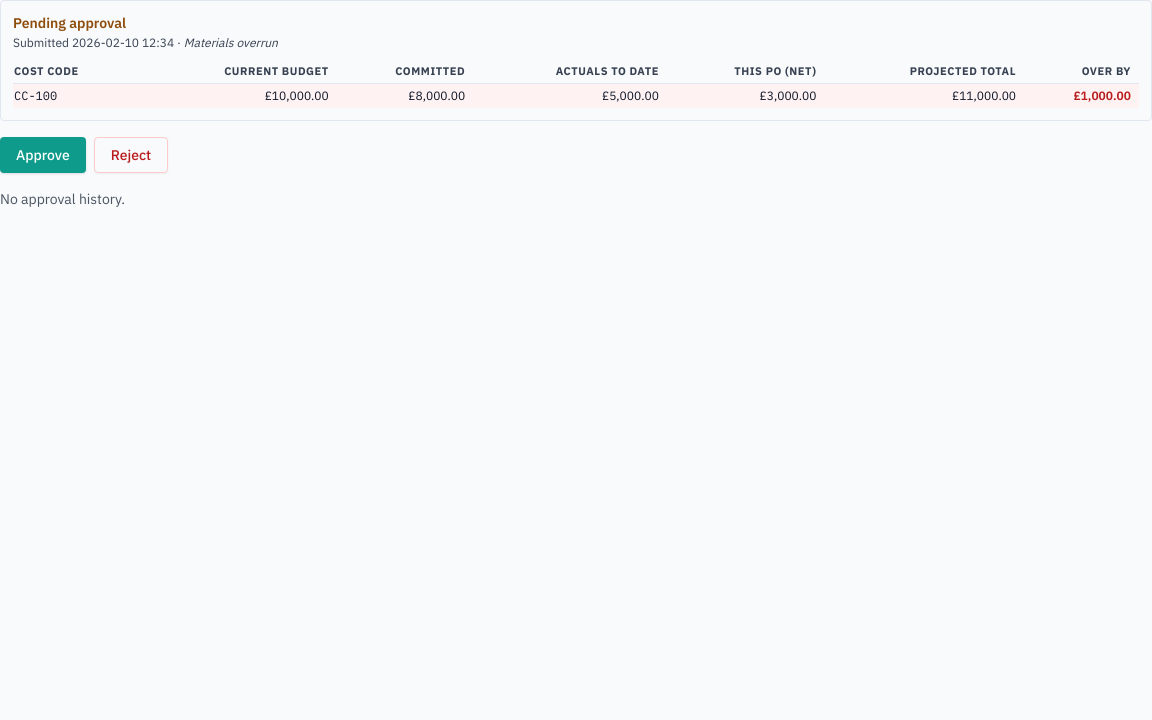
Test: <POApprovalPanel/> R7.3 › Approve calls approvePO with optional reason
Later steps or results of the test are not shown.
Click the button with test id "po-approval-approve-btn" at (43, 155), box [0,137,86,173]
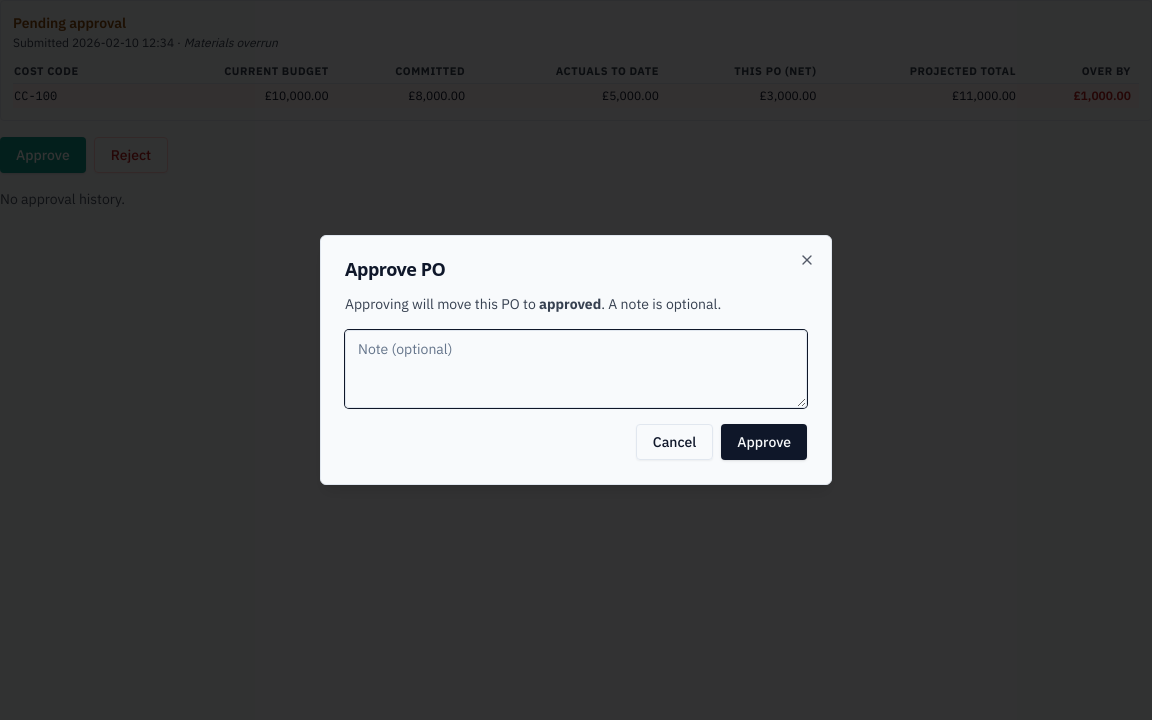
Now the button with test id "po-approval-approve-confirm" is enabled, box [721,424,807,460]
